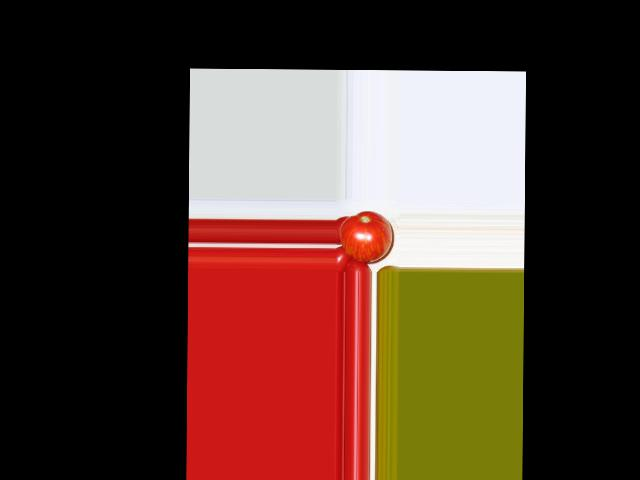tomato: (339, 210, 393, 263)
